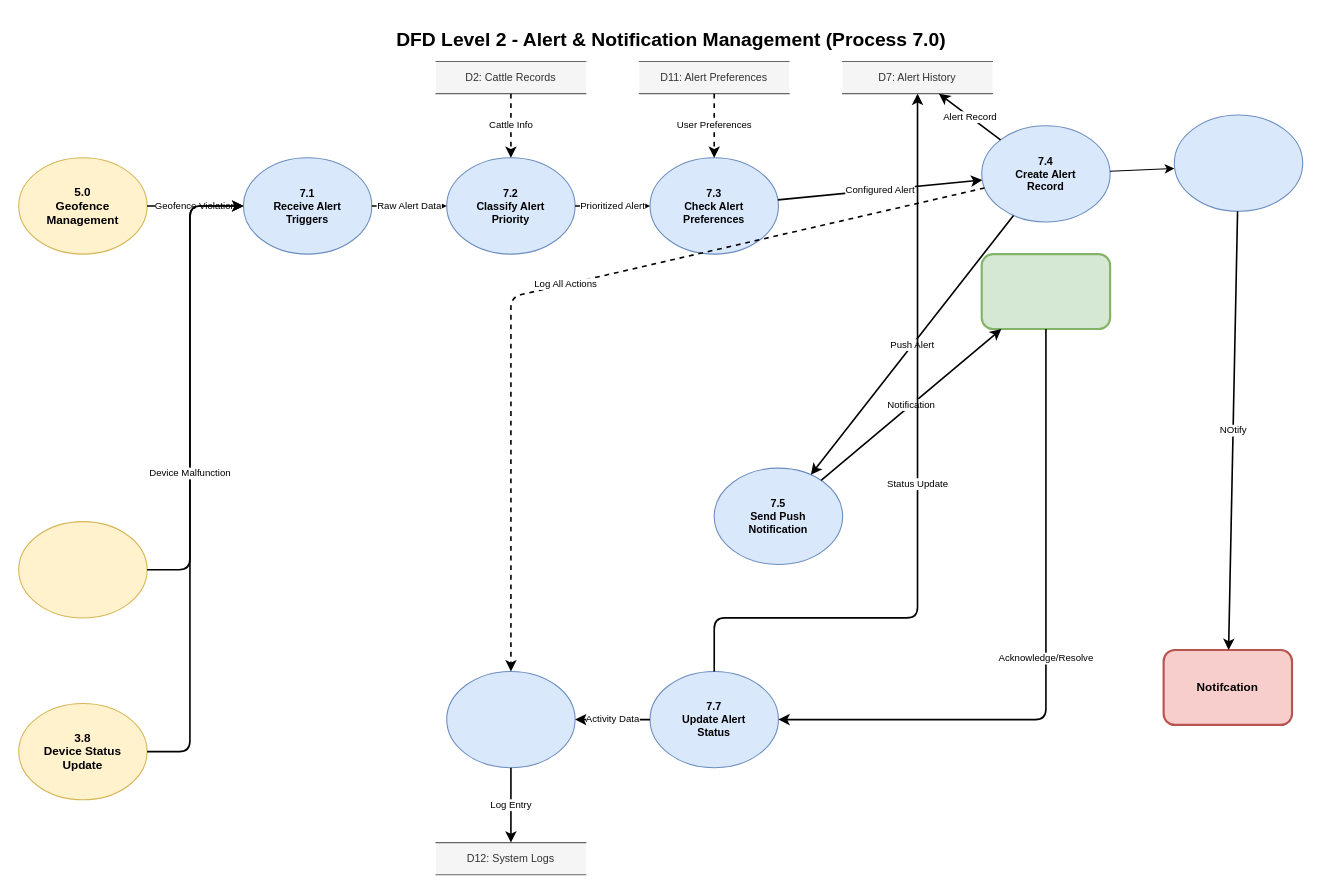
The diagram is 1321 pixels wide and 893 high, and some of its shapes have lost their labels. The box of each missing label's shape, as (x1, y1, x2, y2) in pixels:
6.0 Camera Monitoring: (18, 521, 147, 618)
7.6 Notification: (1173, 114, 1303, 211)
7.8 Log Alert Activity: (446, 670, 575, 768)
Farm Owner/ Administrator: (980, 253, 1111, 330)
